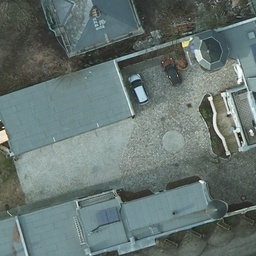car: (127, 74, 148, 105), (161, 58, 184, 86)
